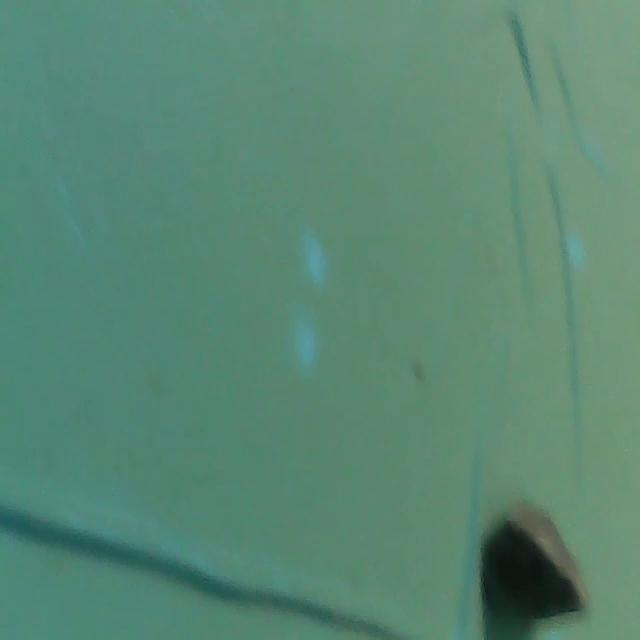rock: (472, 491, 591, 640)
